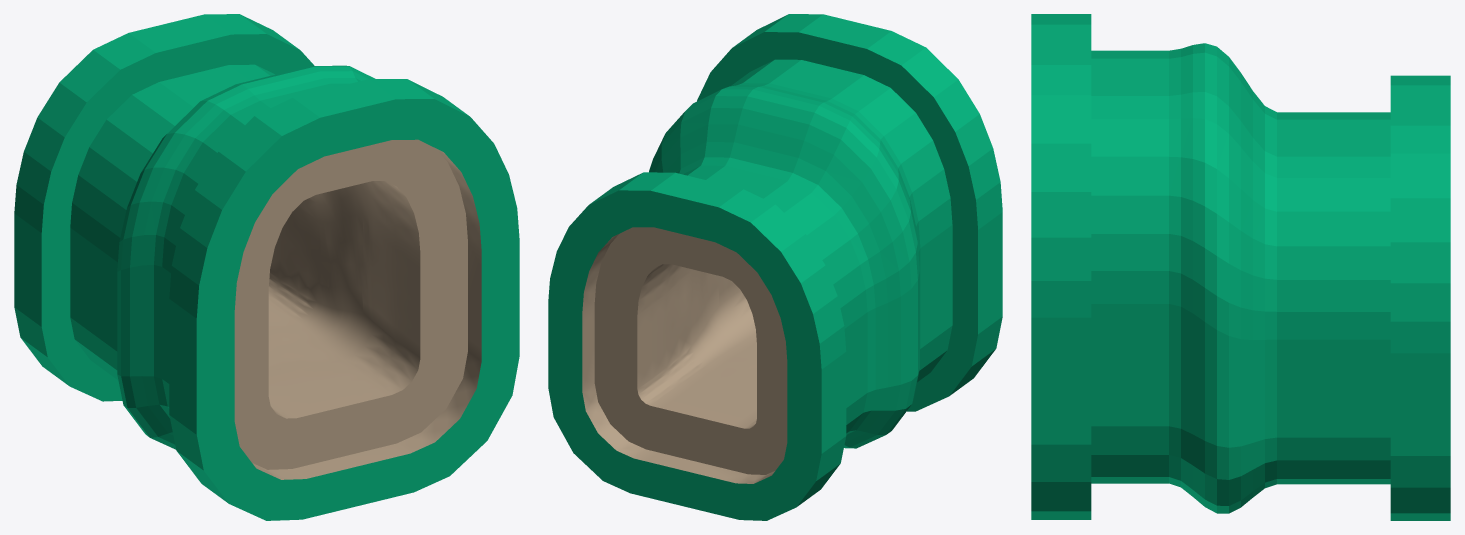
The model's file is TT_Trans_S_C.fbx.
The picture shows the model from 3 angles, left to right: view 1: azimuth 30°, elevation 25°; view 2: azimuth 150°, elevation 25°; view 3: azimuth 270°, elevation 25°; orthographic projection. The views are drawn at different scales.
Parts seen in each view (by area): view 1: TT_Trans_S_C_LOD0; view 2: TT_Trans_S_C_LOD0; view 3: TT_Trans_S_C_LOD0.
Boxes of the visible parts, left/top/right/bottom form: TT_Trans_S_C_LOD0: left=14, top=14, right=519, bottom=520; TT_Trans_S_C_LOD0: left=548, top=14, right=1002, bottom=520; TT_Trans_S_C_LOD0: left=1031, top=14, right=1450, bottom=520.
Size of the model in its own units: 340 by 400 by 350.
